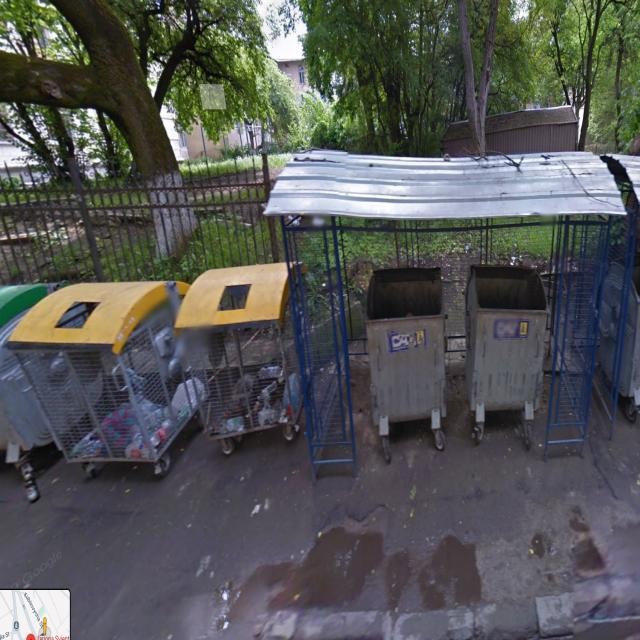general wastetrash bin: (352, 257, 456, 458), (462, 252, 550, 455)
plastic trash bin: (11, 274, 189, 496), (181, 257, 310, 482)
